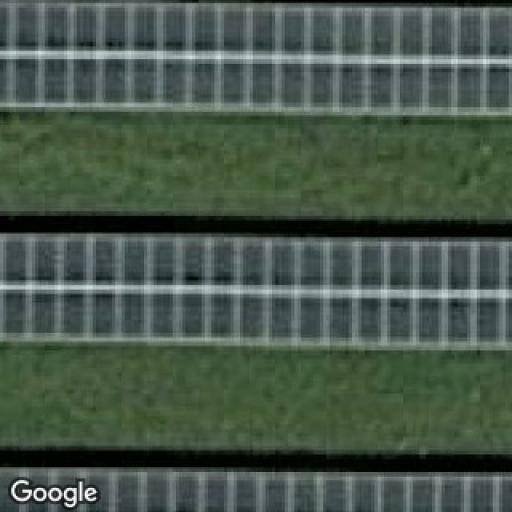solar-panel: (0, 0, 512, 115), (0, 235, 512, 346), (0, 464, 512, 512)
